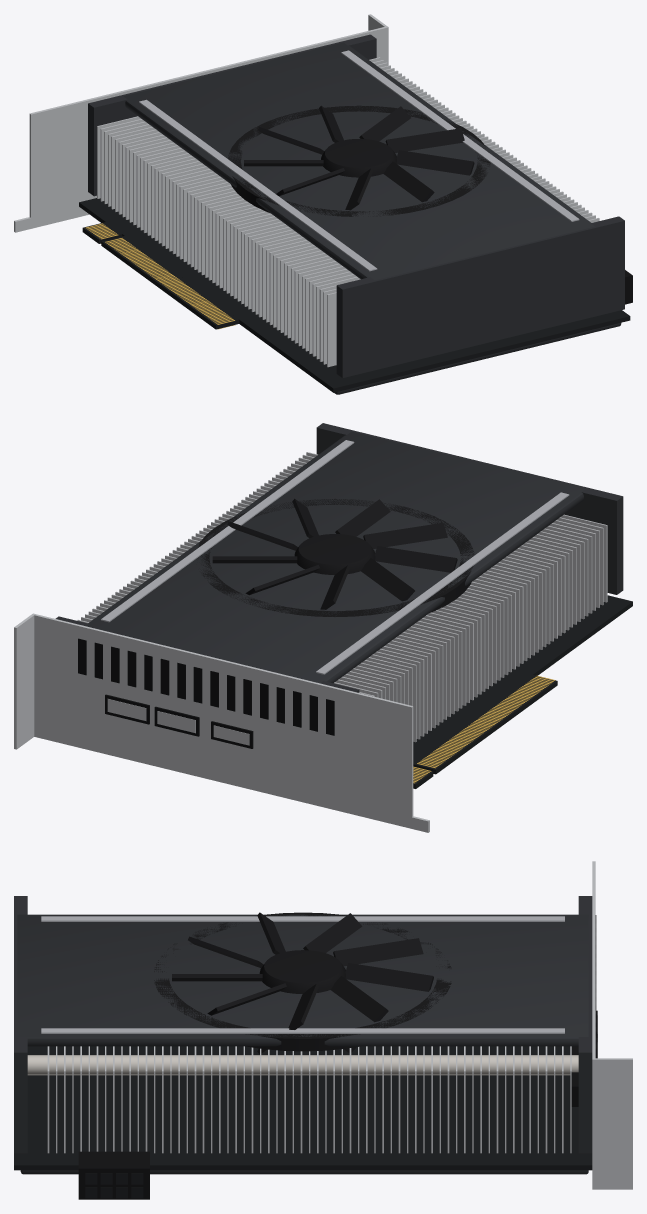
File: gpu-mini-itx-170.glb
3 renders of one model, top to bottom at view 1: azimuth 30°, elevation 25°; view 2: azimuth 150°, elevation 25°; view 3: azimuth 270°, elevation 25°, orthographic. The views are drawn at different scales.
Parts seen in each view (by area): view 1: Shroud (plain, gaps at the top and bottom edges) - Shroud, m, Heatsink fin stack and heat pipes - Heatsink fins, aluminium, PCB with PCIe x16 edge connector - PCB, black solder mask, Fans (1 x 90 mm) - Fan blades and frames, black, I/O bracket with DP / HDMI cut-outs and vents - I/O bracket , Shroud (plain, gaps at the top and bottom edges) - Shroud ac, PCB with PCIe x16 edge connector - Gold edge fingers, Backplate - Backplate, dark anodised; view 2: Shroud (plain, gaps at the top and bottom edges) - Shroud, m, I/O bracket with DP / HDMI cut-outs and vents - I/O bracket , Heatsink fin stack and heat pipes - Heatsink fins, aluminium, Fans (1 x 90 mm) - Fan blades and frames, black, PCB with PCIe x16 edge connector - PCB, black solder mask, I/O bracket with DP / HDMI cut-outs and vents - Connectors a, Shroud (plain, gaps at the top and bottom edges) - Shroud ac, PCB with PCIe x16 edge connector - Gold edge fingers; view 3: Shroud (plain, gaps at the top and bottom edges) - Shroud, m, PCB with PCIe x16 edge connector - PCB, black solder mask, Heatsink fin stack and heat pipes - Heatsink fins, aluminium, Fans (1 x 90 mm) - Fan blades and frames, black, Heatsink fin stack and heat pipes - Water block base, nickel, I/O bracket with DP / HDMI cut-outs and vents - I/O bracket , Shroud (plain, gaps at the top and bottom edges) - Shroud ac, Power connectors - Connectors and port housings, black, Backplate - Backplate, dark anodised, Power connectors - PCB, black solder mask, I/O bracket with DP / HDMI cut-outs and vents - Connectors a.
Part boxes in pixels (x1=…): Shroud (plain, gaps at the top and bottom edges) - Shroud, m: x1=88, y1=34, x2=624, y2=378; Heatsink fin stack and heat pipes - Heatsink fins, aluminium: x1=97, y1=57, x2=599, y2=367; PCB with PCIe x16 edge connector - PCB, black solder mask: x1=79, y1=198, x2=630, y2=392; Fans (1 x 90 mm) - Fan blades and frames, black: x1=228, y1=105, x2=490, y2=216; I/O bracket with DP / HDMI cut-outs and vents - I/O bracket : x1=14, y1=14, x2=388, y2=232; Shroud (plain, gaps at the top and bottom edges) - Shroud ac: x1=139, y1=50, x2=579, y2=271; PCB with PCIe x16 edge connector - Gold edge fingers: x1=85, y1=223, x2=235, y2=329; Backplate - Backplate, dark anodised: x1=334, y1=323, x2=621, y2=394; Shroud (plain, gaps at the top and bottom edges) - Shroud, m: x1=55, y1=423, x2=623, y2=692; I/O bracket with DP / HDMI cut-outs and vents - I/O bracket : x1=14, y1=613, x2=429, y2=832; Heatsink fin stack and heat pipes - Heatsink fins, aluminium: x1=77, y1=452, x2=607, y2=742; Fans (1 x 90 mm) - Fan blades and frames, black: x1=198, y1=498, x2=474, y2=616; PCB with PCIe x16 edge connector - PCB, black solder mask: x1=413, y1=595, x2=632, y2=788; I/O bracket with DP / HDMI cut-outs and vents - Connectors a: x1=78, y1=638, x2=334, y2=748; Shroud (plain, gaps at the top and bottom edges) - Shroud ac: x1=101, y1=440, x2=569, y2=674; PCB with PCIe x16 edge connector - Gold edge fingers: x1=413, y1=675, x2=555, y2=783; Shroud (plain, gaps at the top and bottom edges) - Shroud, m: x1=14, y1=896, x2=592, y2=1153; PCB with PCIe x16 edge connector - PCB, black solder mask: x1=14, y1=1046, x2=592, y2=1170; Heatsink fin stack and heat pipes - Heatsink fins, aluminium: x1=47, y1=1046, x2=571, y2=1153; Fans (1 x 90 mm) - Fan blades and frames, black: x1=154, y1=912, x2=451, y2=1054; Heatsink fin stack and heat pipes - Water block base, nickel: x1=27, y1=1055, x2=578, y2=1075; I/O bracket with DP / HDMI cut-outs and vents - I/O bracket : x1=592, y1=861, x2=632, y2=1189; Shroud (plain, gaps at the top and bottom edges) - Shroud ac: x1=41, y1=916, x2=564, y2=1033; Power connectors - Connectors and port housings, black: x1=78, y1=1151, x2=149, y2=1199; Backplate - Backplate, dark anodised: x1=20, y1=1170, x2=588, y2=1174; Power connectors - PCB, black solder mask: x1=85, y1=1173, x2=143, y2=1198; I/O bracket with DP / HDMI cut-outs and vents - Connectors a: x1=571, y1=915, x2=597, y2=1106.
Size of the model in its own units: 0.1512 by 0.0451 by 0.182.
Materials: 10 (10 with a texture image).
